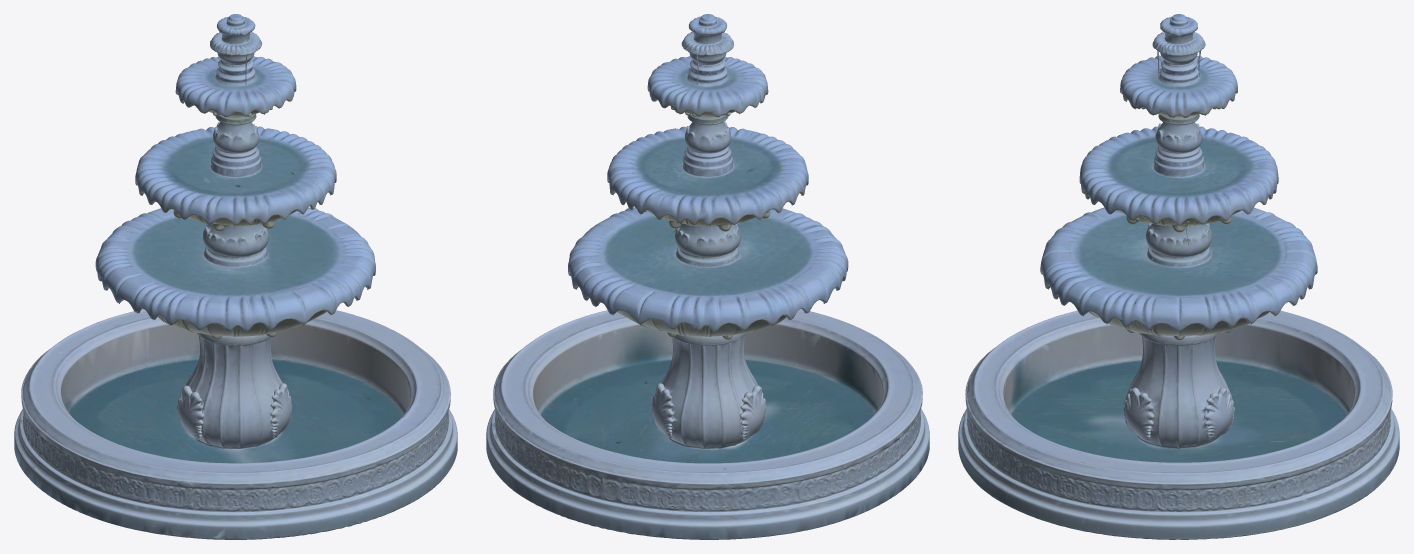
File: fountain.glb
The picture shows the model from 3 angles, left to right: view 1: azimuth 30°, elevation 25°; view 2: azimuth 150°, elevation 25°; view 3: azimuth 270°, elevation 25°; orthographic projection.
Parts seen in each view (by area): view 1: node_0; view 2: node_0; view 3: node_0.
Boxes of the visible parts, left/top/right/bottom form: node_0: left=14, top=14, right=457, bottom=539; node_0: left=486, top=14, right=929, bottom=539; node_0: left=958, top=14, right=1399, bottom=539.
Bounding box in the file's own units: 0.8162 × 0.8786 × 0.8162.
1 material, 1 textured.
